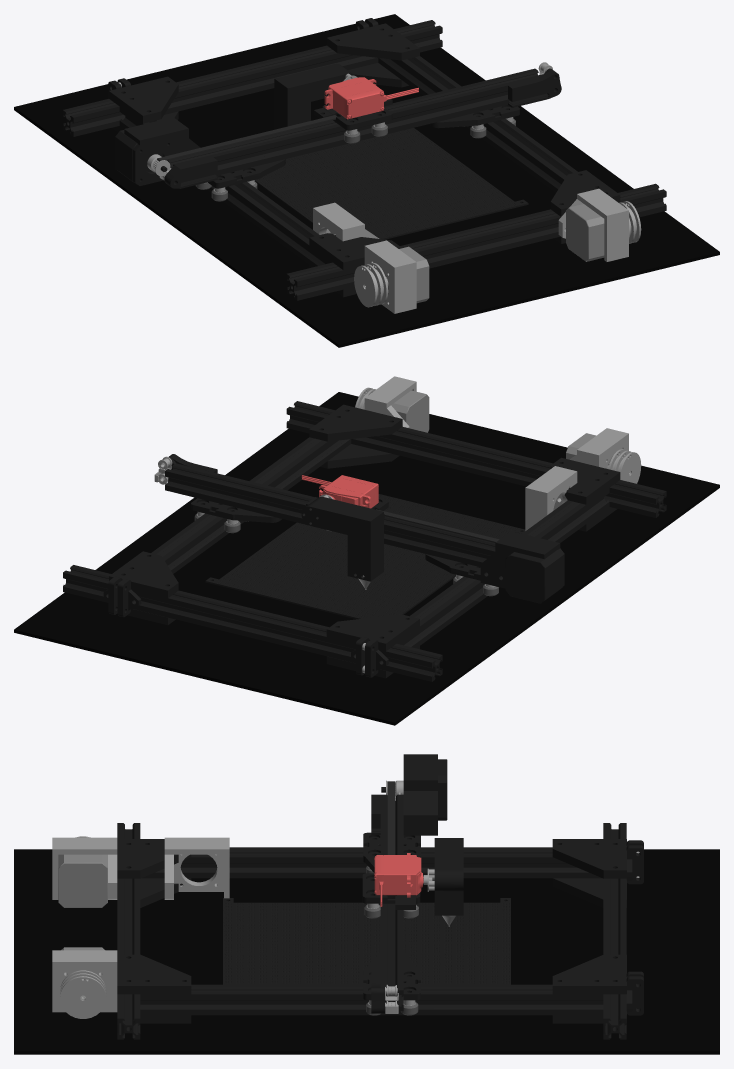
The model's file is printer.glb.
3 renders of one model, top to bottom at view 1: azimuth 30°, elevation 25°; view 2: azimuth 150°, elevation 25°; view 3: azimuth 270°, elevation 25°, orthographic. The views are drawn at different scales.
Visible parts, largest first — view 1: object 23, object 1, anim_bp_18__0_1_1_67_, anim_bp_2_Component1_1, object 17, anim_bp_24_Component9_1, object 15, anim_bp_10_xmotor_mount_1, anim_bp_20_DS3225MG_Servo_25Kg_4_8_6_8V_1, anim_bp_19_MVG_v2_1, anim_bp_7_xidler_mirror_1_1, anim_bp_1_MVG_v2_1_1 (+5 smaller); view 2: object 23, object 1, anim_bp_18__0_1_1_67_, anim_bp_2_Component1_1, object 17, anim_bp_24_Component9_1, anim_bp_4__0_1_1_39_, anim_bp_10_xmotor_mount_1, anim_bp_20_DS3225MG_Servo_25Kg_4_8_6_8V_1, object 15, anim_bp_0_MVG_v2_1, anim_bp_1_MVG_v2_1_1 (+2 smaller); view 3: object 23, object 1, anim_bp_18__0_1_1_67_, object 17, anim_bp_2_Component1_1, anim_bp_10_xmotor_mount_1, object 15, anim_bp_24_Component9_1, anim_bp_20_DS3225MG_Servo_25Kg_4_8_6_8V_1, anim_bp_17_Y_Axis_Pulley_v4_Mirror_1, anim_bp_0_MVG_v2_1, anim_bp_19_MVG_v2_1 (+4 smaller).
Part boxes in pixels (box(x1,y1,x2,y2)): object 23: box(14, 14, 719, 347); object 1: box(63, 18, 666, 300); anim_bp_18__0_1_1_67_: box(254, 128, 528, 239); anim_bp_2_Component1_1: box(167, 68, 542, 175); object 17: box(313, 188, 628, 313); anim_bp_24_Component9_1: box(274, 63, 354, 129); object 15: box(382, 204, 604, 303); anim_bp_10_xmotor_mount_1: box(124, 117, 200, 185); anim_bp_20_DS3225MG_Servo_25Kg_4_8_6_8V_1: box(324, 77, 418, 119); anim_bp_19_MVG_v2_1: box(314, 94, 392, 143); anim_bp_7_xidler_mirror_1_1: box(508, 68, 561, 107); anim_bp_1_MVG_v2_1_1: box(195, 159, 285, 201); object 23: box(14, 392, 719, 725); object 1: box(63, 401, 666, 681); anim_bp_18__0_1_1_67_: box(205, 494, 525, 619); anim_bp_2_Component1_1: box(165, 463, 495, 567); object 17: box(364, 376, 628, 530); anim_bp_24_Component9_1: box(301, 497, 383, 581); anim_bp_4__0_1_1_39_: box(505, 549, 562, 603); anim_bp_10_xmotor_mount_1: box(480, 531, 564, 588); anim_bp_20_DS3225MG_Servo_25Kg_4_8_6_8V_1: box(301, 475, 378, 508); object 15: box(391, 390, 612, 463); anim_bp_0_MVG_v2_1: box(191, 498, 281, 533); anim_bp_1_MVG_v2_1_1: box(425, 554, 498, 596); object 23: box(14, 849, 719, 1054); object 1: box(117, 823, 643, 1039); anim_bp_18__0_1_1_67_: box(223, 898, 510, 984); object 17: box(52, 837, 229, 1012); anim_bp_2_Component1_1: box(380, 794, 403, 1011); anim_bp_10_xmotor_mount_1: box(403, 754, 437, 835); object 15: box(58, 854, 107, 950); anim_bp_24_Component9_1: box(434, 838, 463, 915); anim_bp_20_DS3225MG_Servo_25Kg_4_8_6_8V_1: box(374, 853, 423, 906); anim_bp_17_Y_Axis_Pulley_v4_Mirror_1: box(60, 970, 106, 1018); anim_bp_0_MVG_v2_1: box(363, 953, 420, 1015); anim_bp_19_MVG_v2_1: box(362, 873, 420, 918).
Size of the model in its own units: 0.4477 by 0.0863 by 0.6096.
